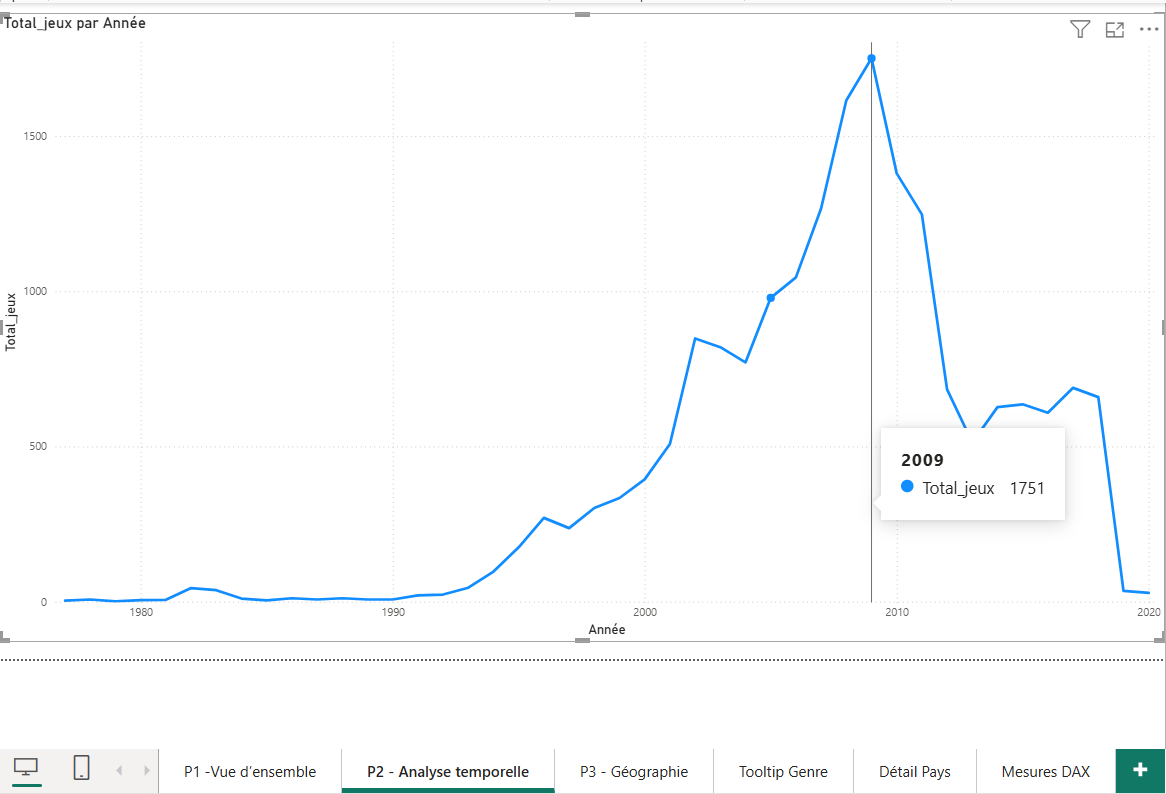

The dashboard page shown, as its layout file describes it:
{"tool":"powerbi","page":{"name":"P2 - Analyse temporelle","canvas":[1280,720],"ordinal":1},"visuals":[{"type":"lineChart","fields":{"Category":["Titles.Release Date.Variation.Hiérarchie de dates.Année"],"Y":["Publishers.Total_jeux"]},"box":[0,11,1280.3,690.2],"z":0}]}

Visuals, with their boxes on the page's 1280x720 design canvas (x1, y1, x2, y2). These are canvas units, not pixel positions in the 1166x794 screenshot, which may show the page scaled, cropped or inside an application window:
lineChart - Titles.Release Date.Variation.Hiérarchie de dates.Année x Publishers.Total_jeux: [0, 11, 1280, 701]
